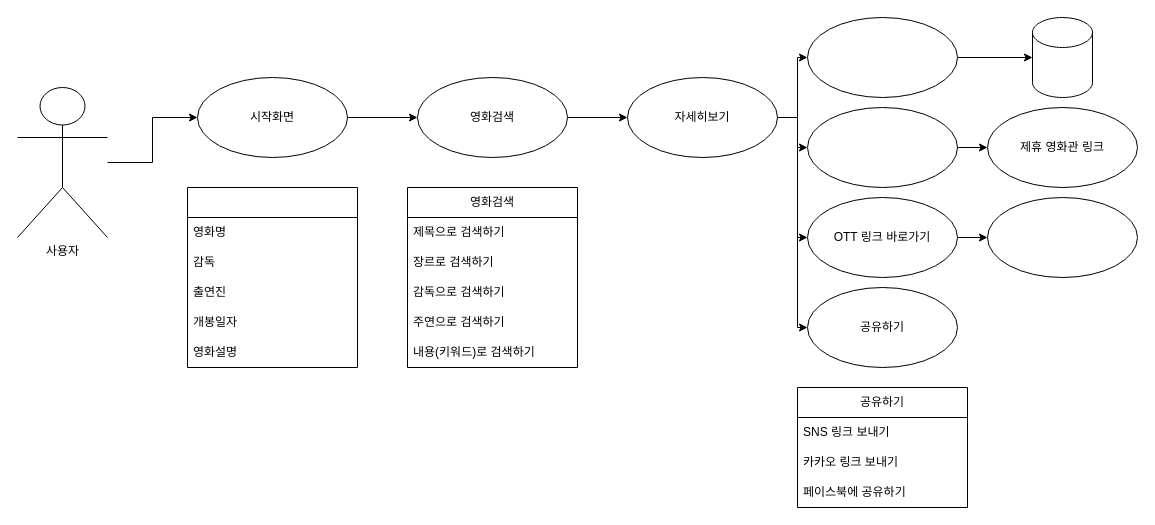
This 1155x525 diagram has some shape labels left out. The shapes that lost their labels are listed below. From the top down, each one's box as (x1, y1, x2, y2) in pixels, then its label:
(806, 16, 958, 98): 영화평 남기기
(806, 106, 958, 188): 영화 예매하기
(986, 196, 1138, 278): OTT 연결
(186, 186, 358, 368): 최신영화
